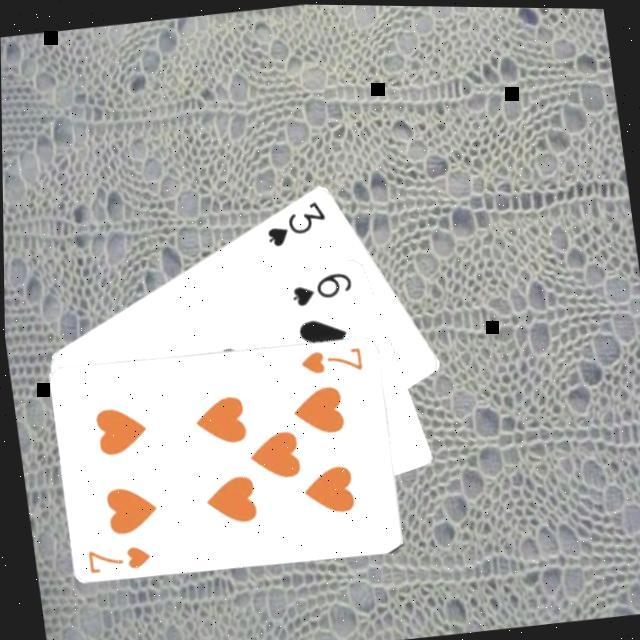3S: (258, 192, 331, 249)
6S: (283, 264, 356, 309)
7H: (293, 339, 364, 378), (80, 538, 151, 575)
